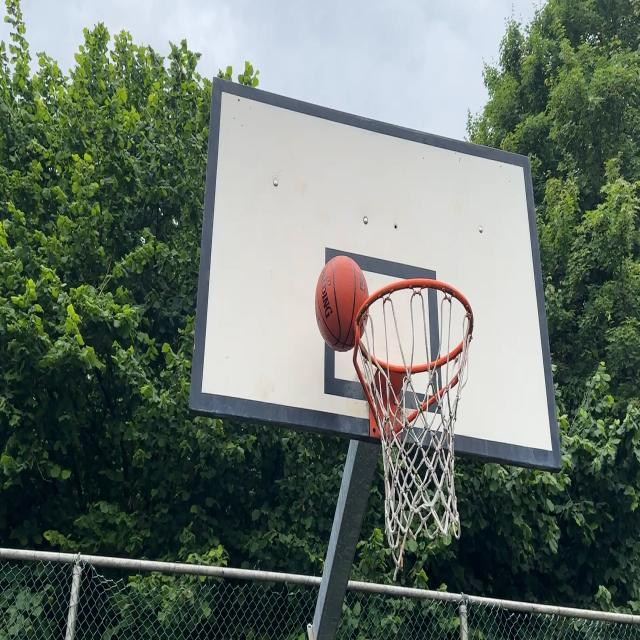rebound_hit: (316, 256, 370, 353)
